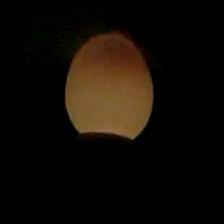infertile: (63, 31, 155, 147)
